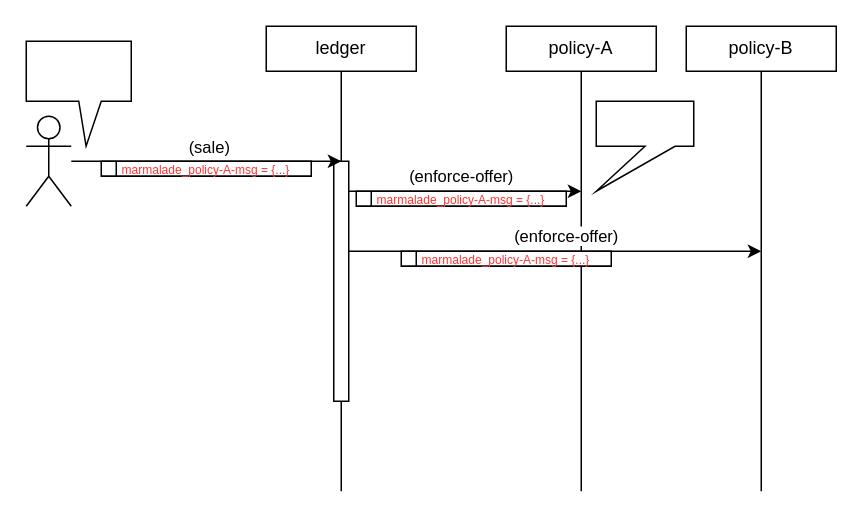
This 863x519 diagram has some shape labels left out. Here are the shapes that lost their labels. From the top down, the centre of each, then its label:
At point (78, 93): "Include message in transaction data".
At point (644, 145): "Read message in transaction data".
